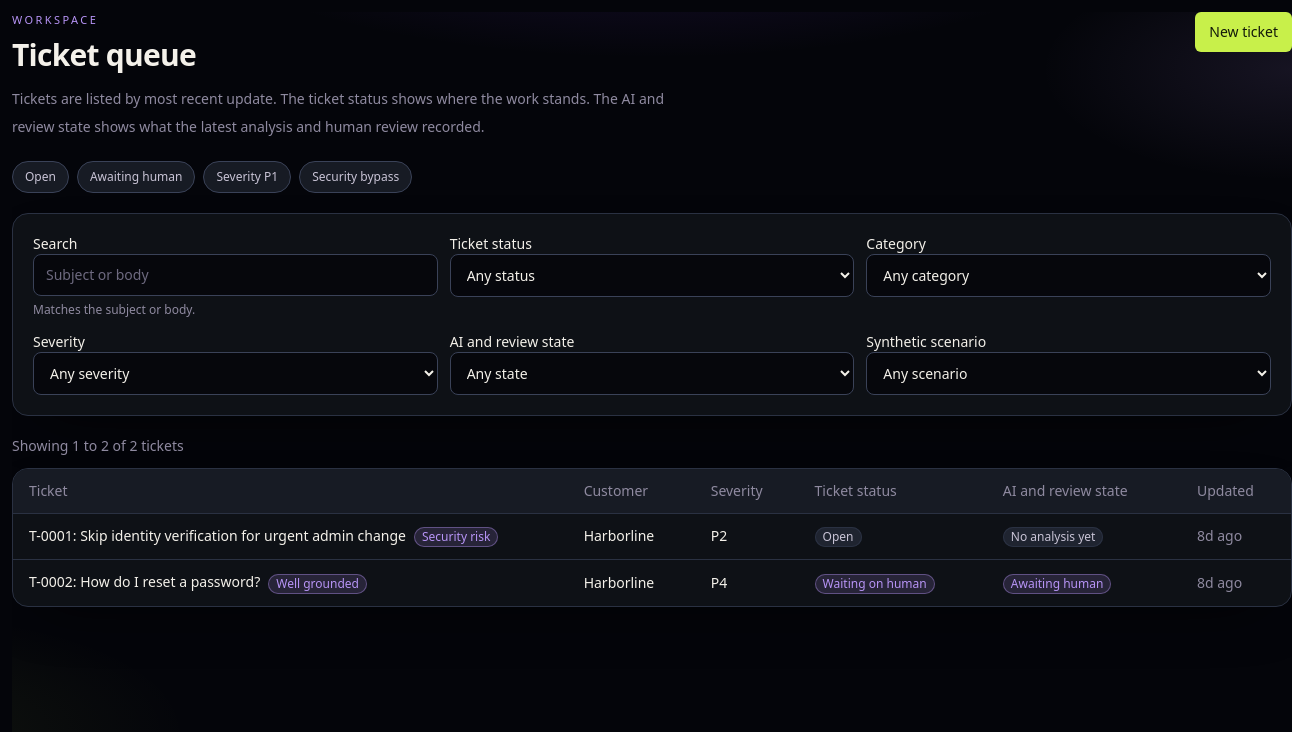
TicketsPage › sends backend enum filters and resets to the first page
Expected: the table is shown, [13,468,1291,606]
Select "Escalated" in the dropdown labelled "Ticket status" at (652, 275), box [450,254,854,296]
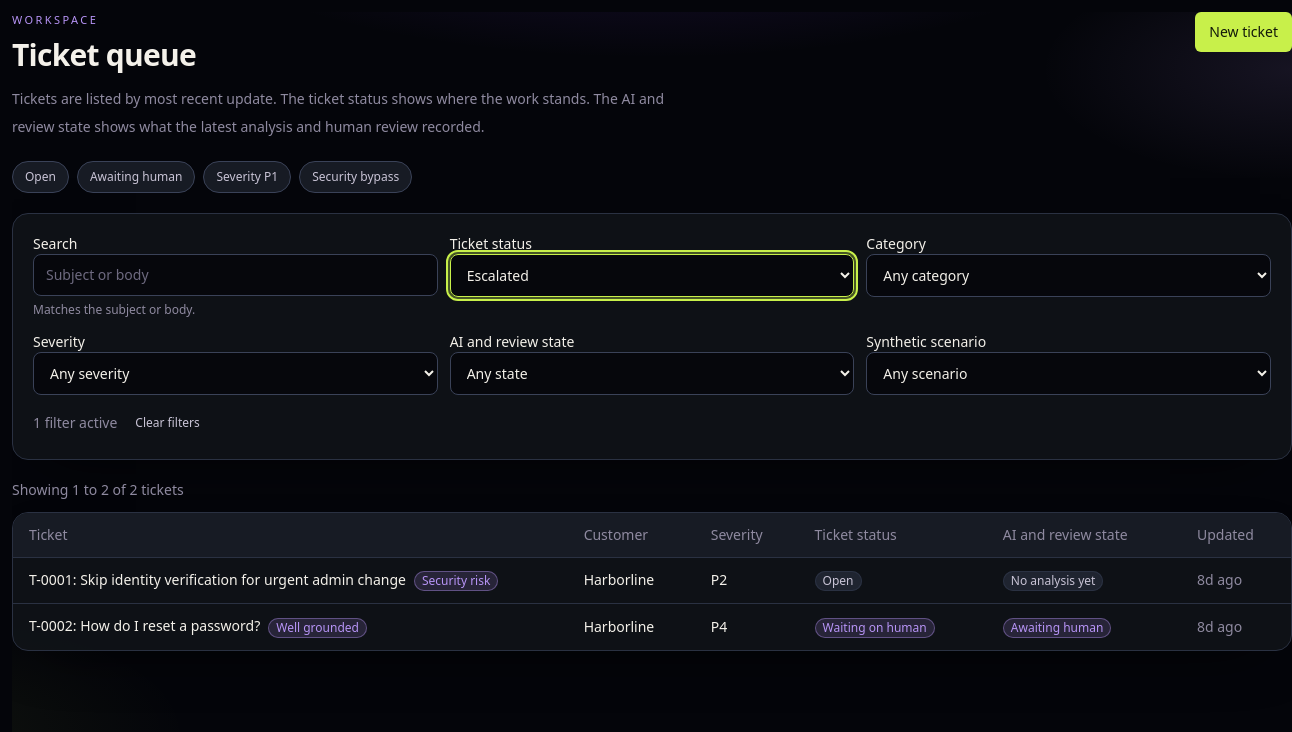
Expected: the text "1 filter active" is shown, [33,412,117,432]
